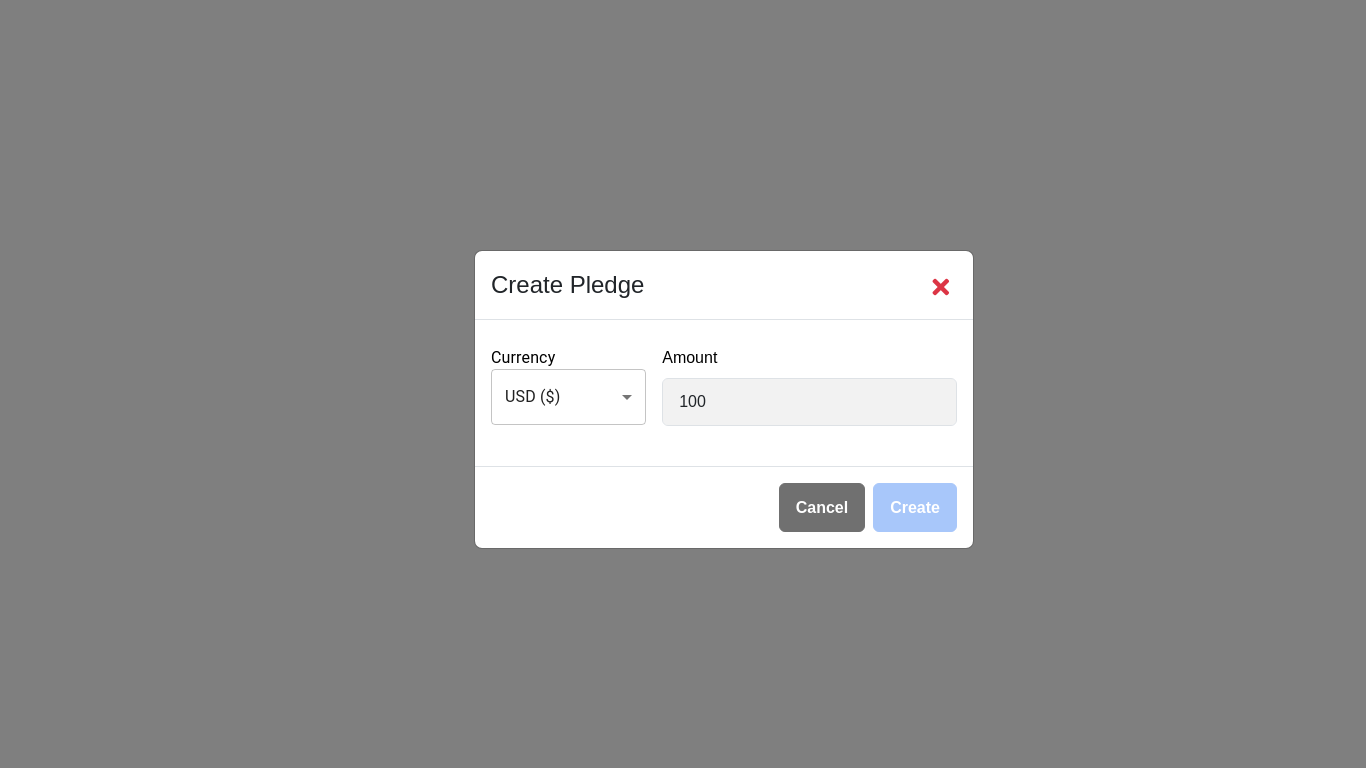
it: PledgeModal › Form Field Updates › should update currency when changed
Check: the text "Create Pledge" is shown, box [491, 267, 644, 303]
Click the dropdown named "Currency" at [533, 397], box [505, 388, 560, 406]
(page scrolled)
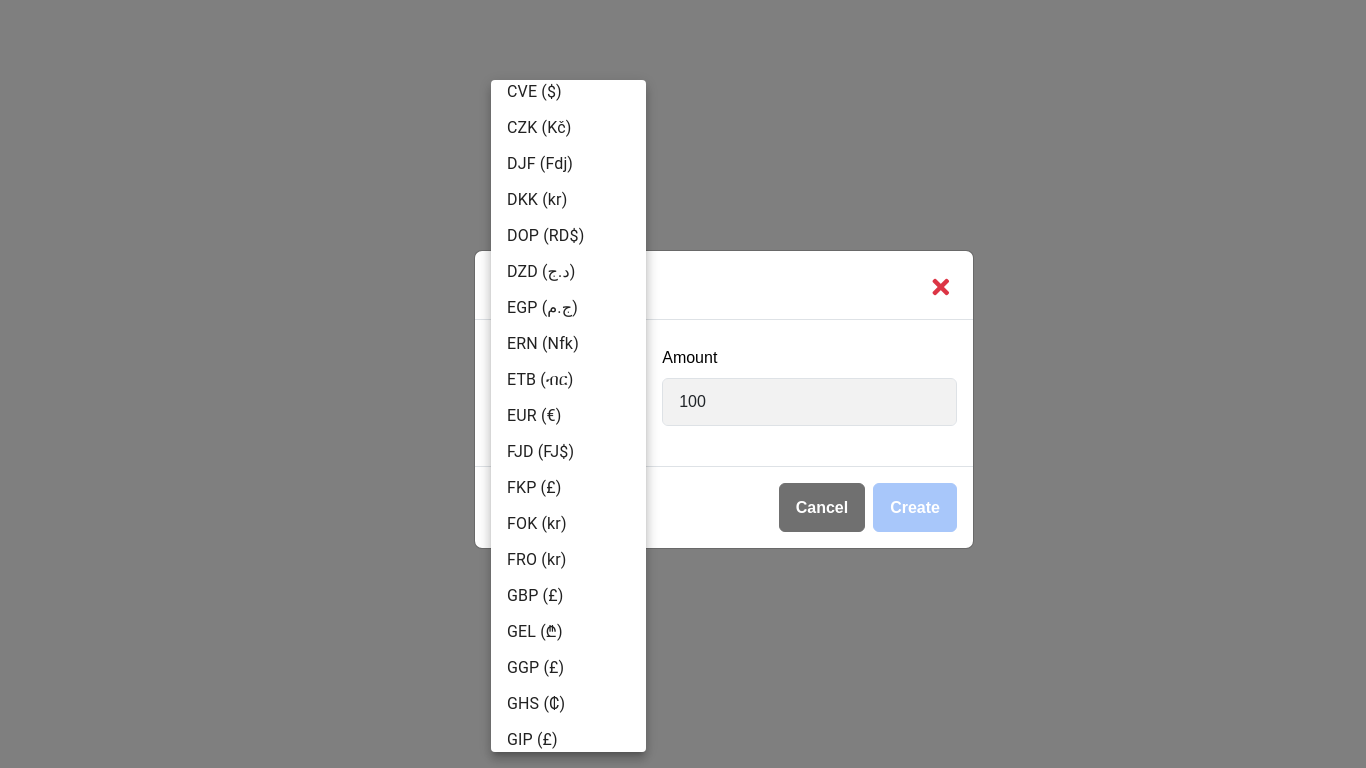
Click the option "EUR (€)" at [534, 416], box [507, 406, 561, 425]
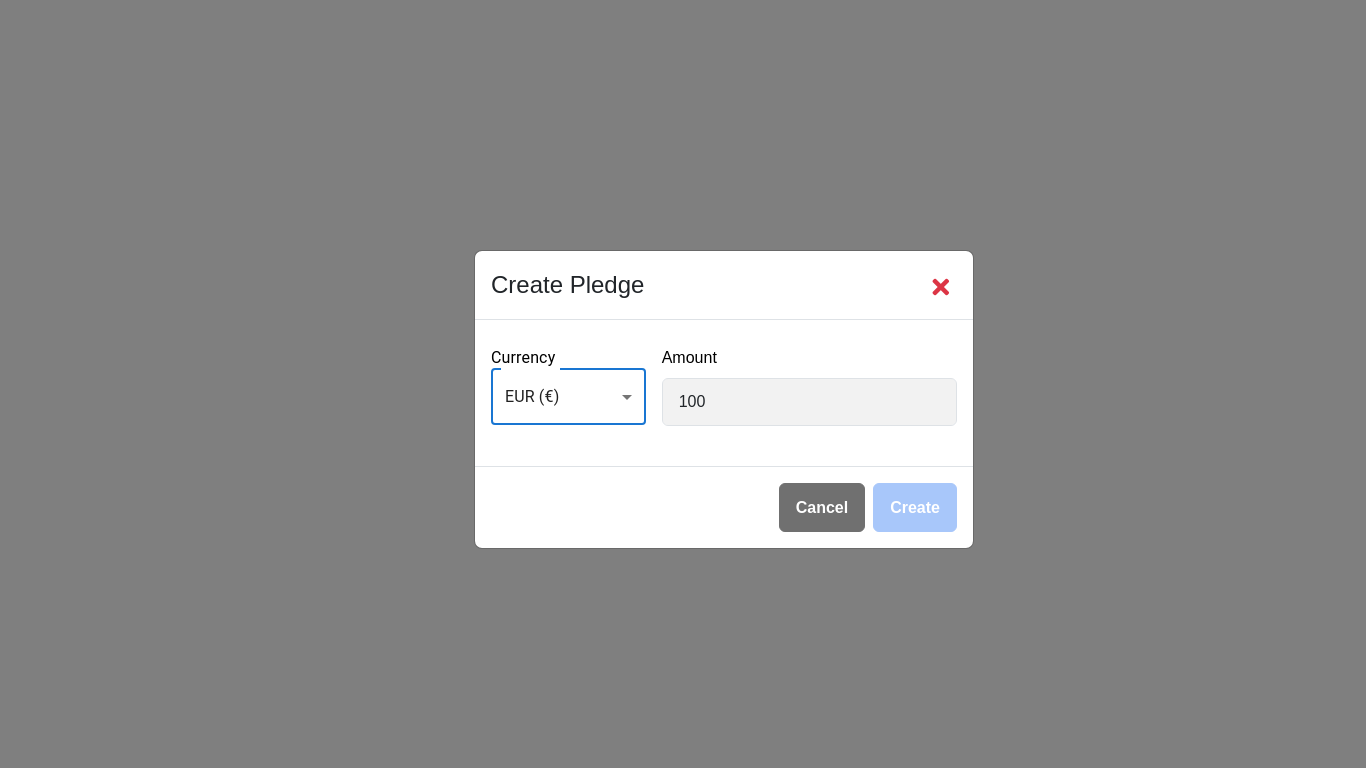
Check: the dropdown named "Currency" reads "EUR (€)", box [505, 388, 559, 406]
